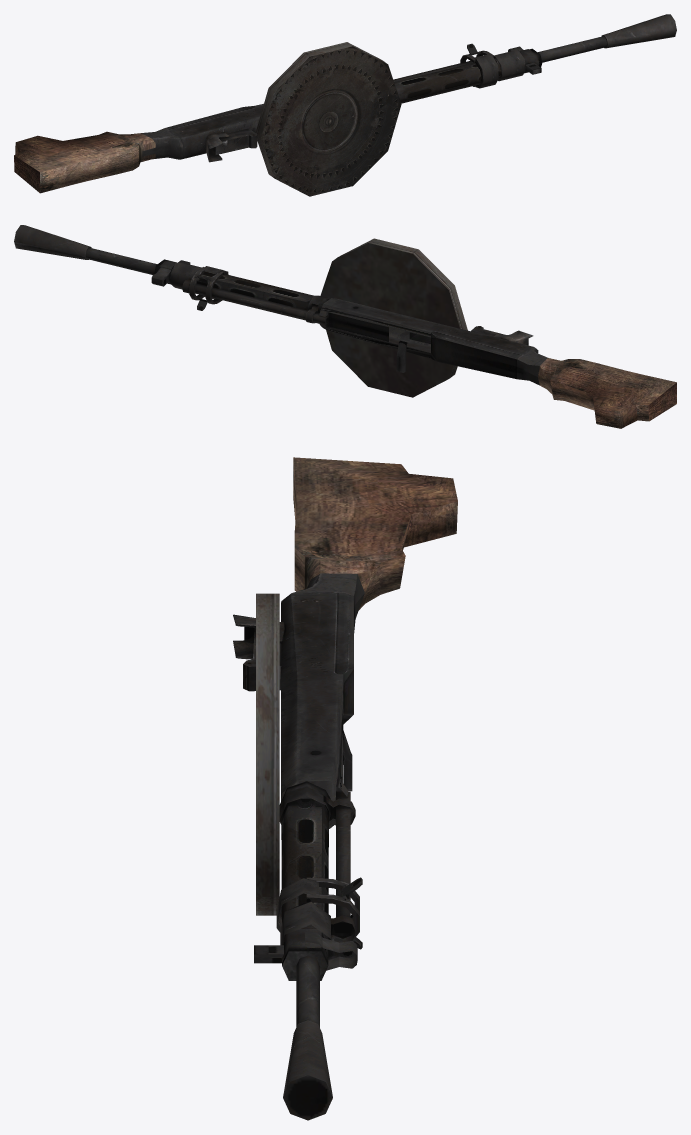
The model's file is weapon_rus_dp28_lmg_LOD11.obj.
The picture shows the model from 3 angles, top to bottom: view 1: azimuth 30°, elevation 25°; view 2: azimuth 150°, elevation 25°; view 3: azimuth 270°, elevation 25°; orthographic projection. The views are drawn at different scales.
Parts seen in each view (by area): view 1: TomGroup_0, TomGroup_1; view 2: TomGroup_0, TomGroup_1; view 3: TomGroup_0, TomGroup_1.
Boxes of the visible parts, x1=… form: TomGroup_0: x1=14, y1=14, x2=676, y2=193; TomGroup_1: x1=255, y1=42, x2=401, y2=196; TomGroup_0: x1=14, y1=225, x2=676, y2=428; TomGroup_1: x1=320, y1=238, x2=467, y2=397; TomGroup_0: x1=233, y1=457, x2=457, y2=1120; TomGroup_1: x1=256, y1=593, x2=279, y2=915.
Size of the model in its own units: 134 by 28.34 by 20.66.
2 materials, 2 textured.
